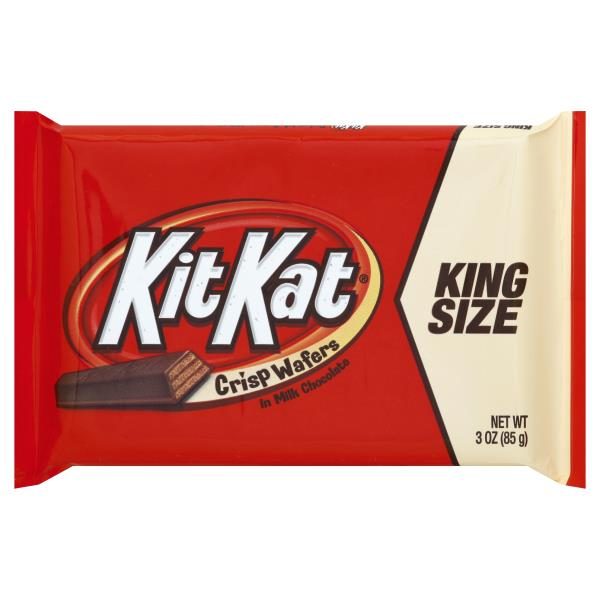kitkat: (10, 109, 590, 495)
